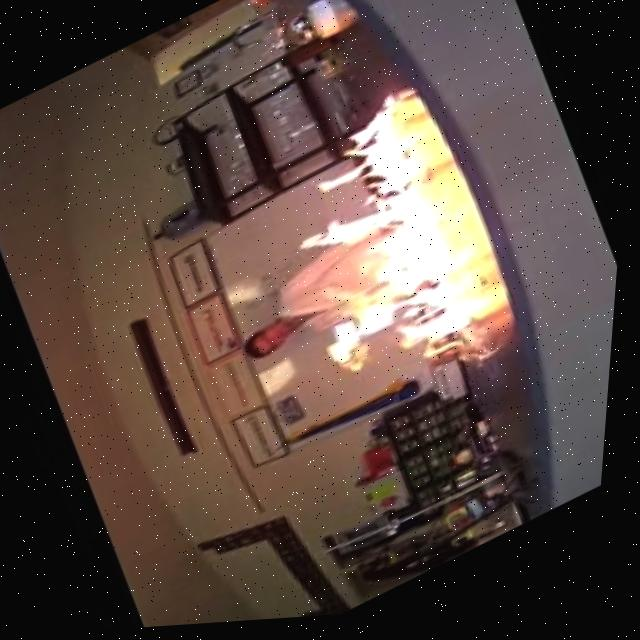Fire: (232, 81, 516, 426)
